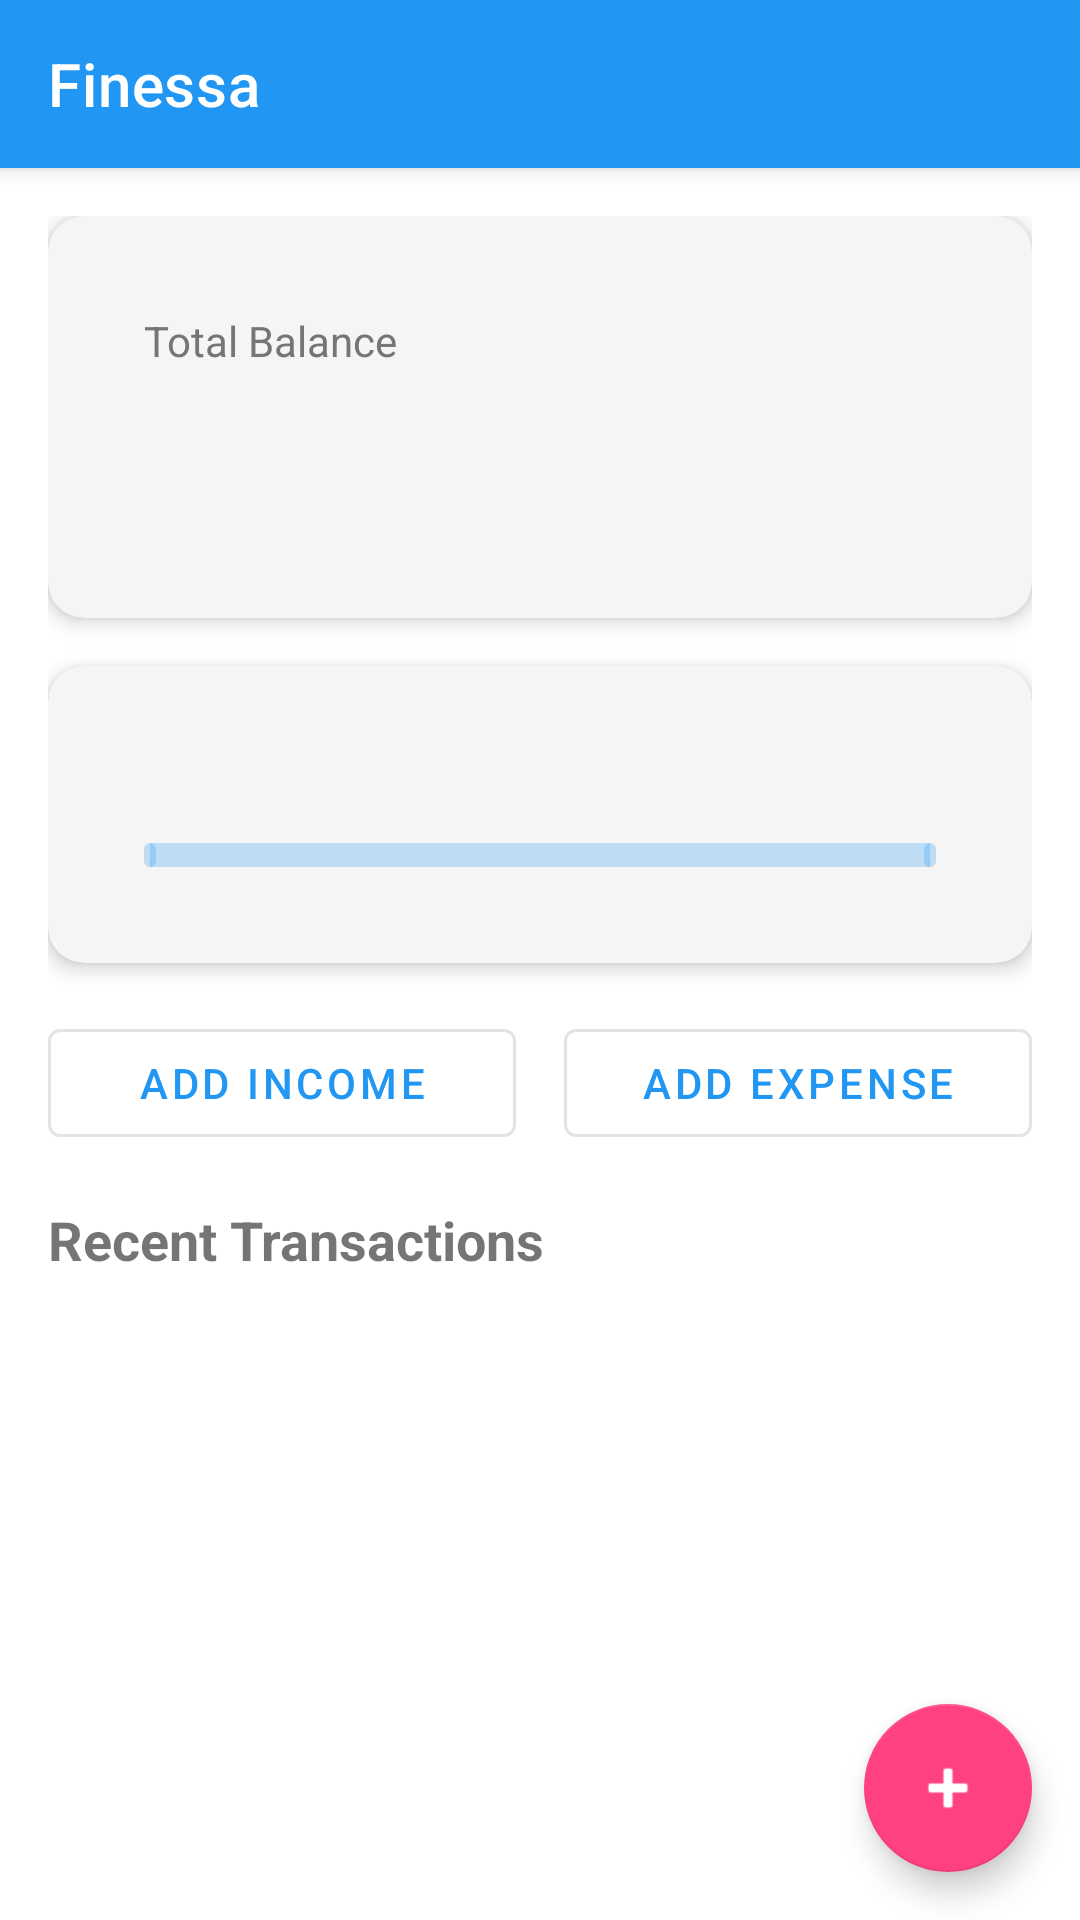

Icon click points for this 1080 x 1920 phone screenshot, format point (x, y):
Add transaction: point (948, 1788)
